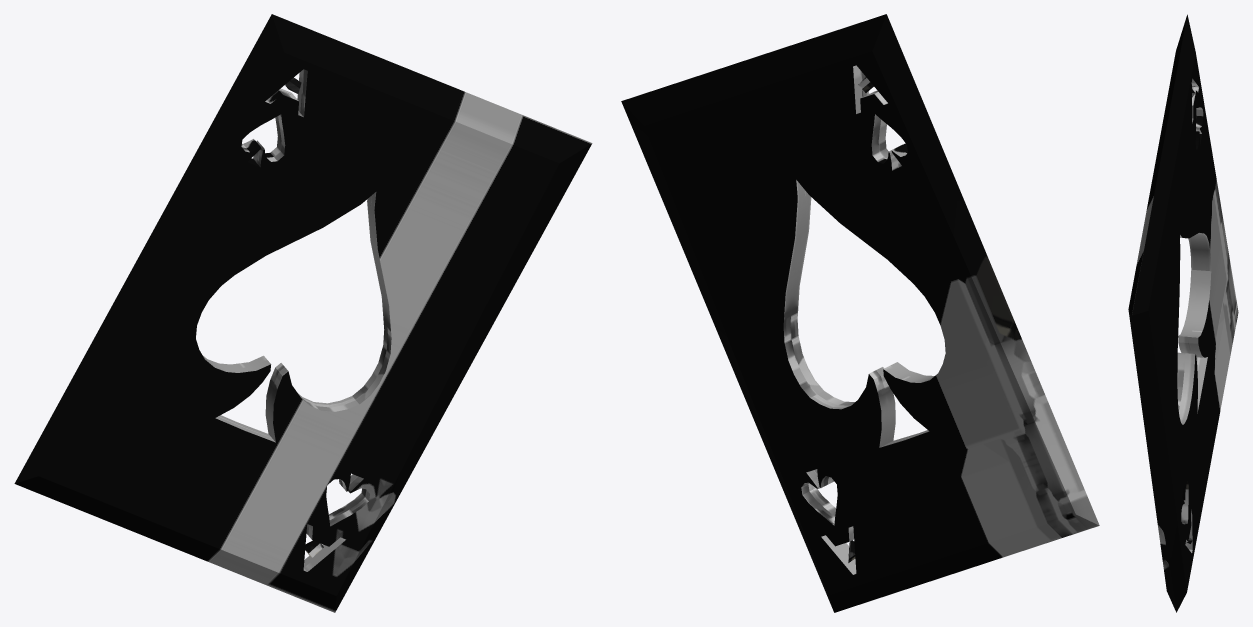
The model's file is steelcard.glb.
3 renders of one model, left to right at view 1: azimuth 30°, elevation 25°; view 2: azimuth 150°, elevation 25°; view 3: azimuth 270°, elevation 25°, orthographic. The views are drawn at different scales.
Parts seen in each view (by area): view 1: Card_Steel_0_3; view 2: Card_Steel_0_3; view 3: Card_Steel_0_3.
Part boxes in pixels (x1=…): Card_Steel_0_3: x1=14, y1=14, x2=592, y2=612; Card_Steel_0_3: x1=621, y1=14, x2=1099, y2=612; Card_Steel_0_3: x1=1128, y1=14, x2=1238, y2=612.
Bounding box in the file's own units: 0.1888 × 0.2092 × 0.0365.
1 material, 1 textured.
